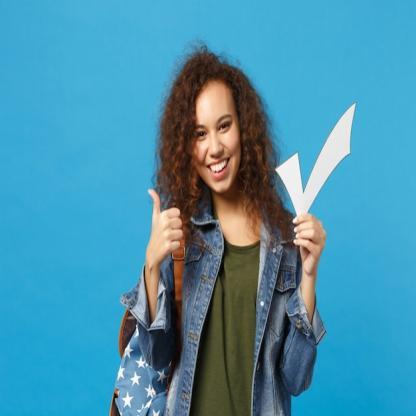thumb_up: (144, 184, 184, 263)
